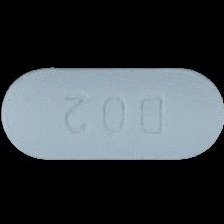50090-0989: (0, 0, 224, 224)
